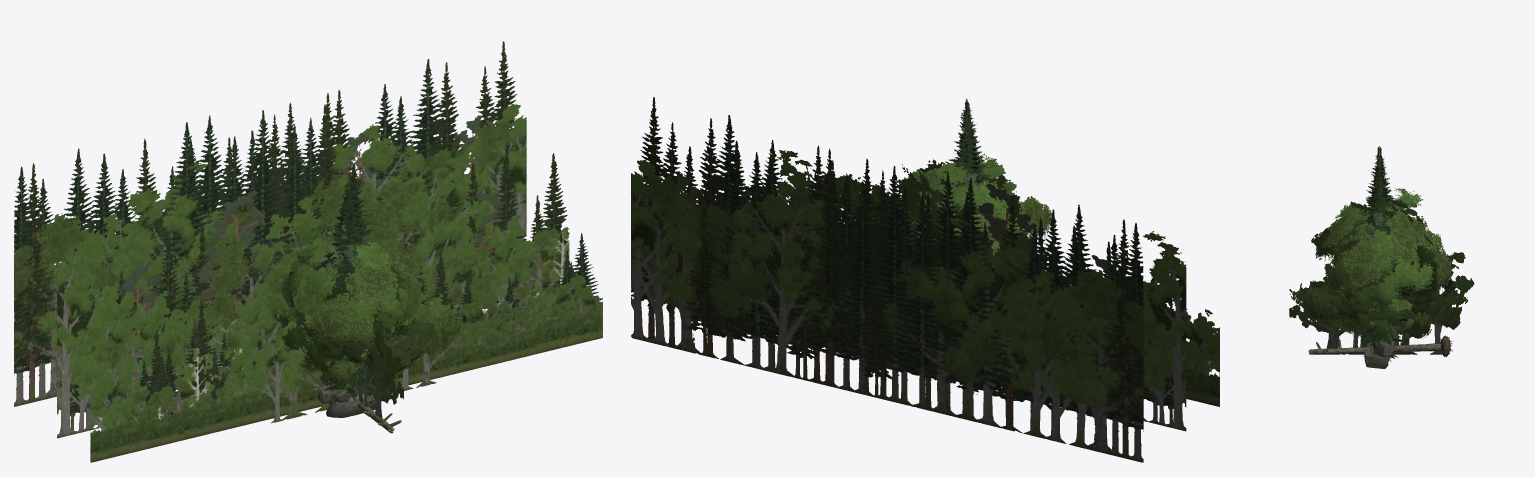
The model's file is nature.glb.
3 renders of one model, left to right at view 1: azimuth 30°, elevation 25°; view 2: azimuth 150°, elevation 25°; view 3: azimuth 270°, elevation 25°, orthographic. The views are drawn at different scales.
Visible parts, largest first — view 1: treeline_far, treeline_far_b, hill_trees_lod, oak_big, beech_big, oak_big_mid, beech_big_mid, oak_big_lod, beech_big_lod, pine_big, fir_big, outcrop (+2 smaller); view 2: treeline_far, treeline_far_b, beech_big, oak_big, beech_big_mid, oak_big_mid, oak_big_lod, fir_big, beech_big_lod; view 3: oak_big, oak_big_mid, hill_trees_lod, beech_big, beech_big_mid, oak_big_lod, beech_big_lod, pine_big, log_bridge, fir_big, pine_big_mid, outcrop (+4 smaller).
Part boxes in pixels (bbox=[...]): treeline_far: bbox=[14, 104, 602, 462]; treeline_far_b: bbox=[14, 41, 602, 434]; hill_trees_lod: bbox=[244, 284, 473, 423]; oak_big: bbox=[287, 210, 462, 414]; beech_big: bbox=[276, 207, 411, 383]; oak_big_mid: bbox=[286, 210, 462, 385]; beech_big_mid: bbox=[276, 207, 412, 377]; oak_big_lod: bbox=[281, 222, 456, 406]; beech_big_lod: bbox=[281, 224, 408, 393]; pine_big: bbox=[327, 162, 391, 381]; fir_big: bbox=[322, 180, 395, 387]; outcrop: bbox=[318, 384, 375, 417]; treeline_far: bbox=[631, 150, 1219, 460]; treeline_far_b: bbox=[631, 97, 1219, 462]; beech_big: bbox=[907, 157, 1046, 262]; oak_big: bbox=[907, 168, 1051, 267]; beech_big_mid: bbox=[908, 153, 1048, 262]; oak_big_mid: bbox=[908, 168, 1051, 267]; oak_big_lod: bbox=[917, 159, 1045, 240]; fir_big: bbox=[950, 117, 988, 220]; beech_big_lod: bbox=[908, 161, 1028, 263]; oak_big: bbox=[1293, 210, 1452, 357]; oak_big_mid: bbox=[1293, 210, 1452, 333]; hill_trees_lod: bbox=[1289, 245, 1474, 354]; beech_big: bbox=[1328, 188, 1442, 361]; beech_big_mid: bbox=[1327, 188, 1443, 340]; oak_big_lod: bbox=[1289, 208, 1441, 358]; beech_big_lod: bbox=[1335, 200, 1437, 357]; pine_big: bbox=[1350, 146, 1408, 329]; log_bridge: bbox=[1308, 335, 1452, 357]; fir_big: bbox=[1344, 167, 1418, 341]; pine_big_mid: bbox=[1351, 157, 1409, 328]; outcrop: bbox=[1364, 334, 1395, 368].
Size of the model in its own units: 62 by 31.45 by 33.
Materials: 31 (31 with a texture image).
